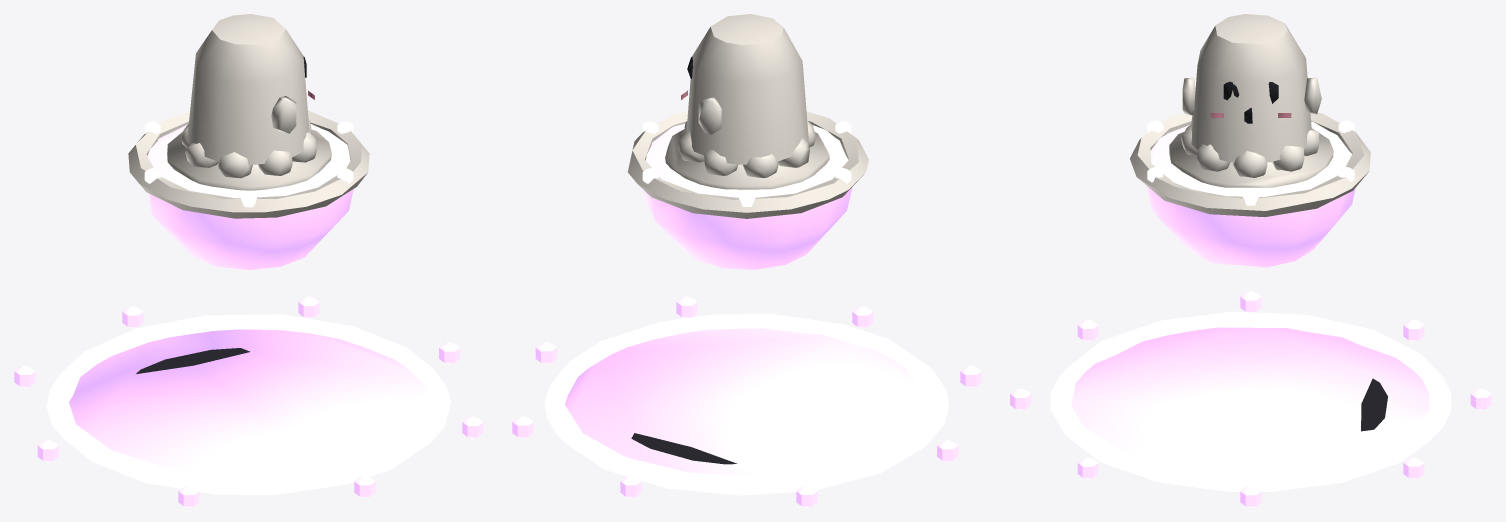
The model's file is pu_ghost.glb.
3 renders of one model, left to right at view 1: azimuth 30°, elevation 25°; view 2: azimuth 150°, elevation 25°; view 3: azimuth 270°, elevation 25°, orthographic.
Visible parts, largest first — view 1: pu_ghost.002, capsule.006; view 2: pu_ghost.002, capsule.006; view 3: pu_ghost.002, capsule.006.
Boxes of the visible parts, x1=… form: pu_ghost.002: x1=14, y1=296, x2=483, y2=507; capsule.006: x1=128, y1=14, x2=369, y2=269; pu_ghost.002: x1=512, y1=296, x2=981, y2=507; capsule.006: x1=628, y1=14, x2=868, y2=269; pu_ghost.002: x1=1010, y1=291, x2=1491, y2=507; capsule.006: x1=1130, y1=14, x2=1370, y2=267.
Size of the model in its own units: 1.56 by 1.39 by 1.57.
Materials: 1 (1 with a texture image).
